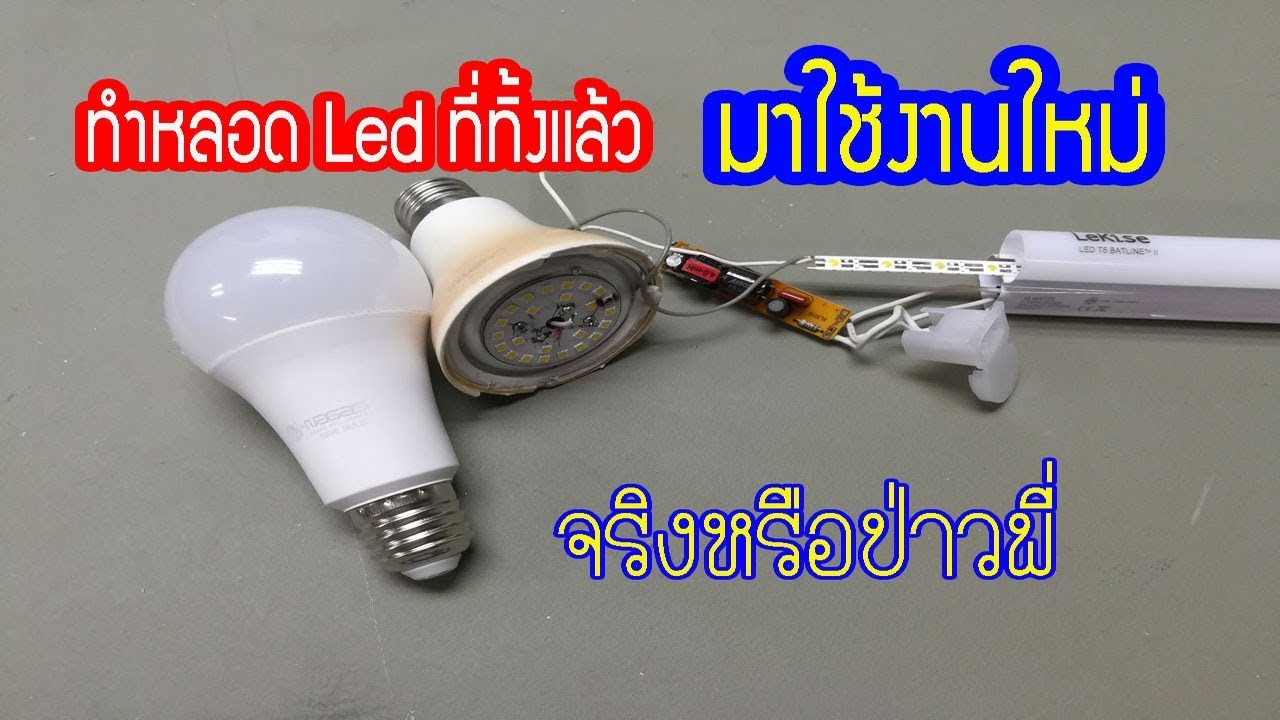Light_bulb: (158, 201, 475, 588)
